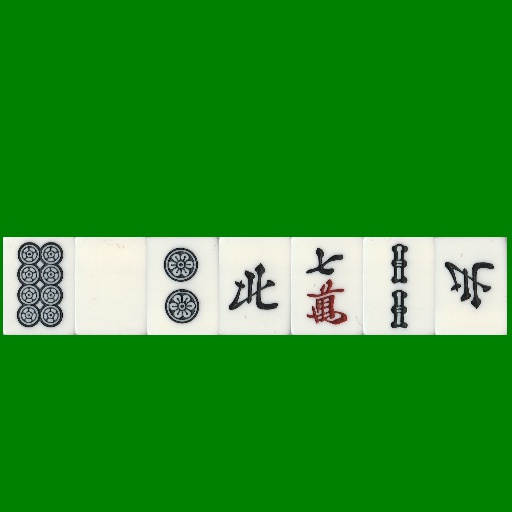2p: (147, 237, 219, 335)
2s: (363, 237, 435, 335)
7m: (291, 237, 363, 335)
8p: (3, 237, 75, 335)
north: (219, 237, 291, 335), (435, 237, 507, 335)
white: (75, 237, 147, 335)
